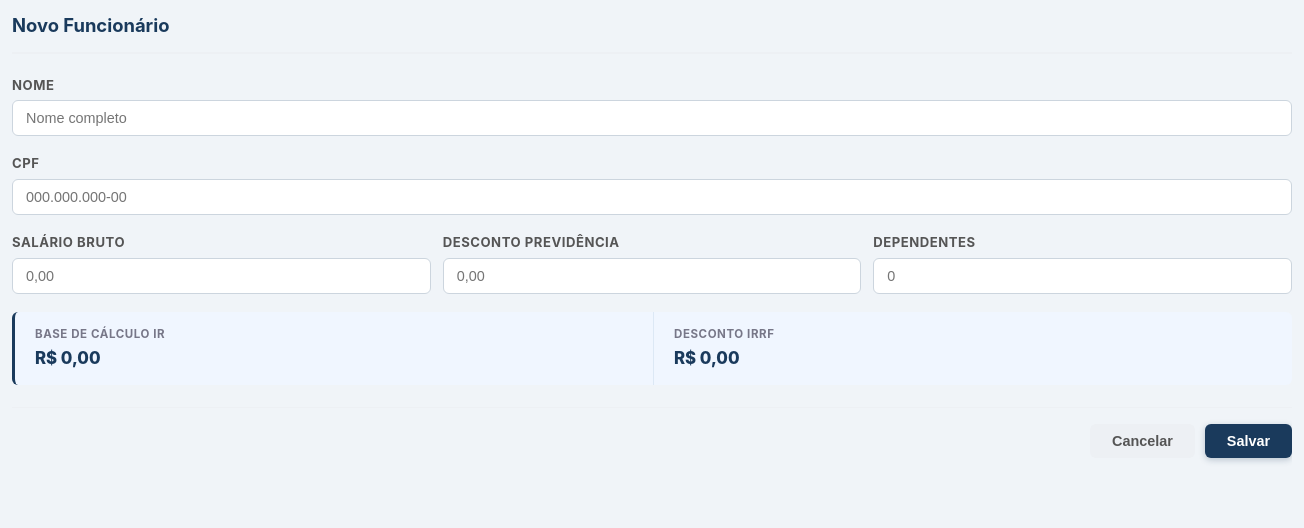
Test case: EmployeeForm › exibe erro quando CPF está incompleto
Type "Teste" into the field with placeholder "Nome completo" at (652, 118), box [12, 100, 1292, 136]
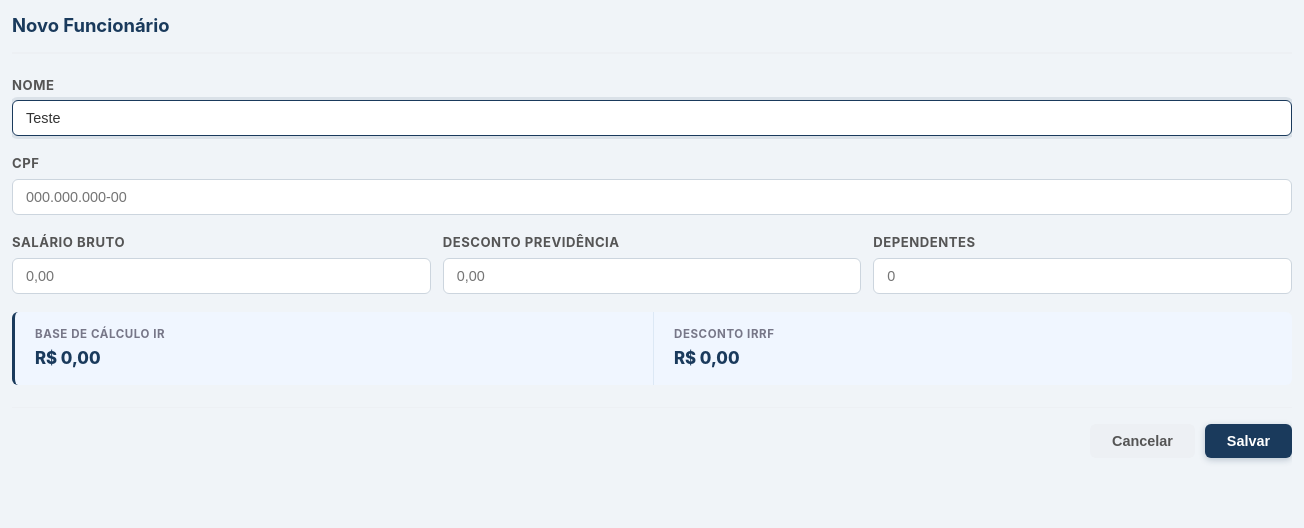
Type "123" into the field with placeholder "000.000.000-00" at (652, 197), box [12, 179, 1292, 215]
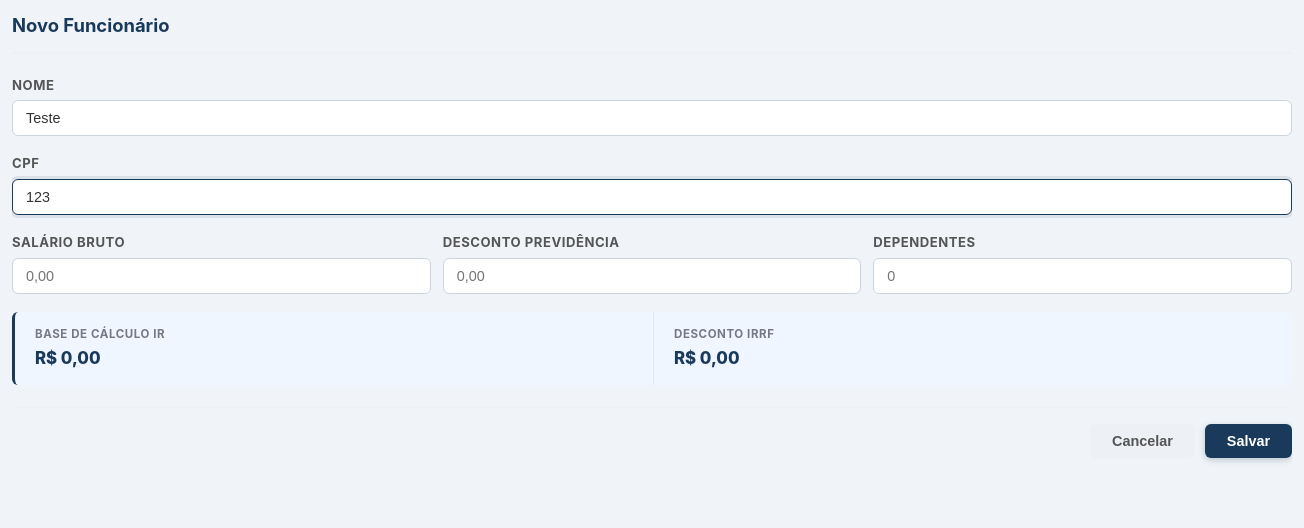
Click the button "Salvar" at (1248, 441), box [1205, 424, 1292, 458]
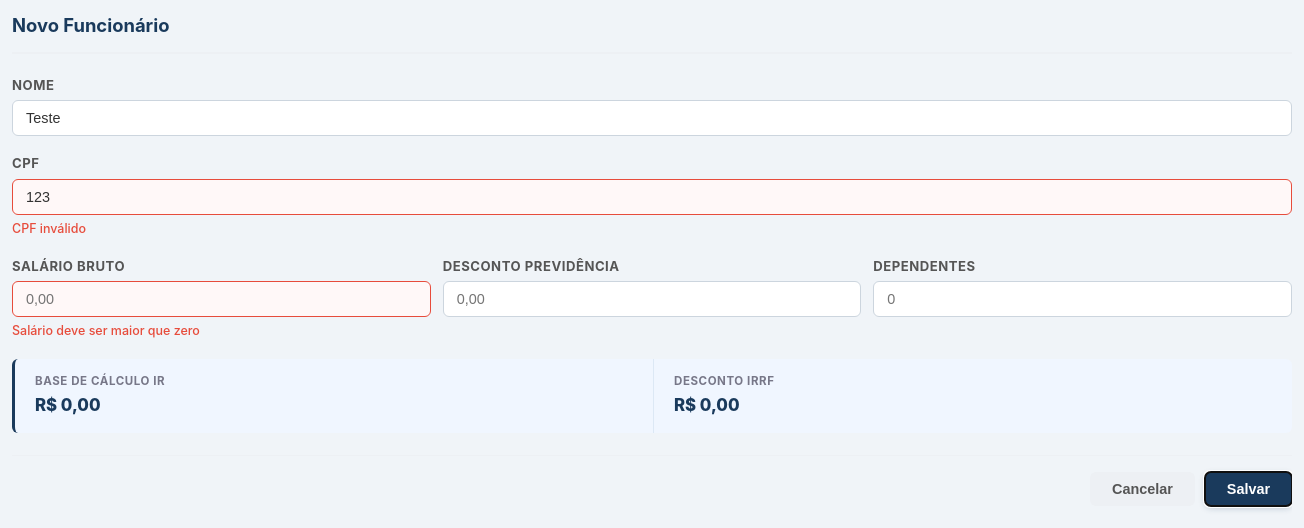
Expected: the text "CPF inválido" is shown, [12, 221, 86, 236]
